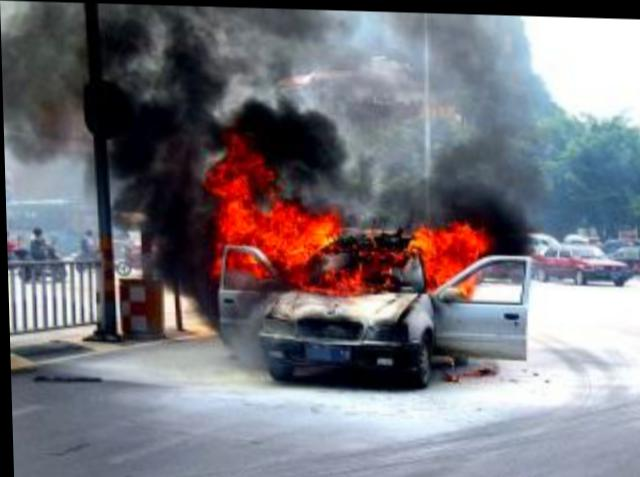fire: (196, 128, 498, 307)
